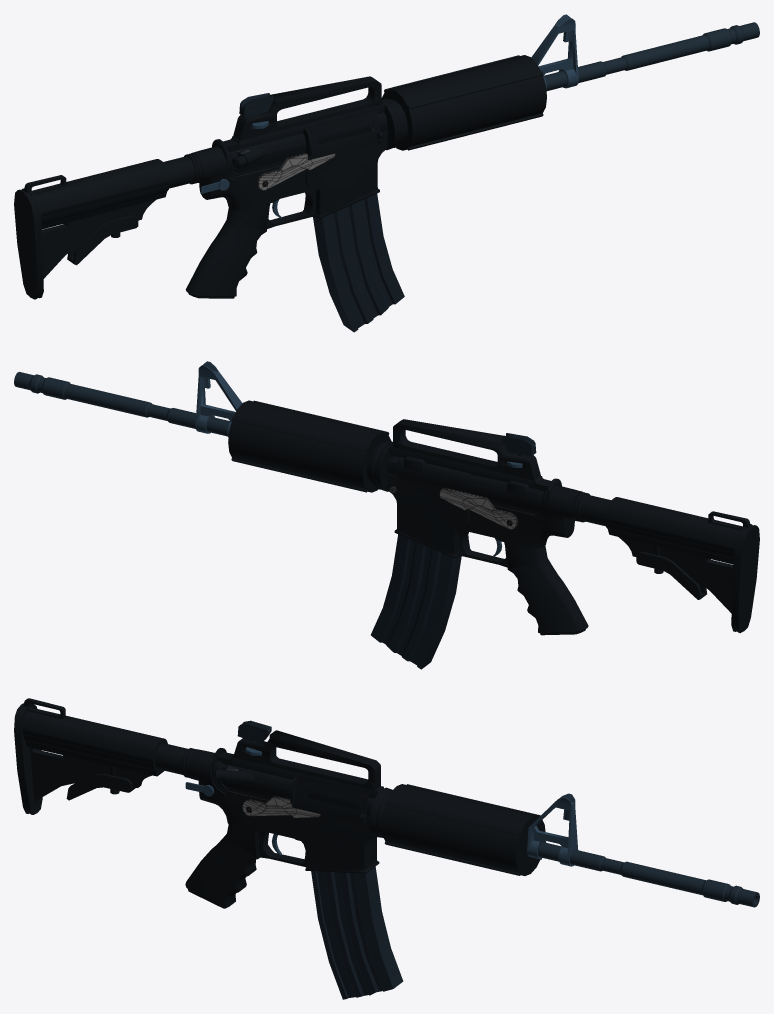
3 views of the same model, one above another, from view 1: azimuth 30°, elevation 25°; view 2: azimuth 150°, elevation 25°; view 3: azimuth 330°, elevation 25° (orthographic).
Parts seen in each view (by area): view 1: M4_Carbine.066, M4_Carbine.063, M4_Carbine.062, M4_Carbine.065, M4_Carbine.048, M4_Carbine.060, M4_Carbine.061, M4_Carbine.042, AK-47.001, M4_Carbine.018; view 2: M4_Carbine.066, M4_Carbine.063, M4_Carbine.062, M4_Carbine.065, M4_Carbine.048, M4_Carbine.060, M4_Carbine.061, AK-47.001, M4_Carbine.042, M4_Carbine.018; view 3: M4_Carbine.066, M4_Carbine.063, M4_Carbine.062, M4_Carbine.065, M4_Carbine.048, M4_Carbine.060, M4_Carbine.061, M4_Carbine.042, AK-47.001, M4_Carbine.018.
Part boxes in pixels (<box>): M4_Carbine.066: <box>184,98,407,298</box>; M4_Carbine.063: <box>14,156,194,299</box>; M4_Carbine.062: <box>381,55,546,150</box>; M4_Carbine.065: <box>313,193,404,332</box>; M4_Carbine.048: <box>223,76,384,151</box>; M4_Carbine.060: <box>543,22,759,90</box>; M4_Carbine.061: <box>531,14,578,90</box>; M4_Carbine.042: <box>212,120,373,162</box>; AK-47.001: <box>257,153,335,190</box>; M4_Carbine.018: <box>239,93,273,116</box>; M4_Carbine.066: <box>367,441,589,635</box>; M4_Carbine.063: <box>580,495,759,633</box>; M4_Carbine.062: <box>228,400,391,492</box>; M4_Carbine.065: <box>371,534,461,669</box>; M4_Carbine.048: <box>390,419,551,491</box>; M4_Carbine.060: <box>14,372,230,436</box>; M4_Carbine.061: <box>195,361,242,437</box>; AK-47.001: <box>439,487,517,529</box>; M4_Carbine.042: <box>468,474,561,501</box>; M4_Carbine.018: <box>502,433,536,456</box>; M4_Carbine.066: <box>181,748,392,908</box>; M4_Carbine.063: <box>14,698,187,814</box>; M4_Carbine.062: <box>381,784,545,875</box>; M4_Carbine.065: <box>311,866,403,999</box>; M4_Carbine.048: <box>217,730,383,798</box>; M4_Carbine.060: <box>538,842,759,907</box>; M4_Carbine.061: <box>527,793,578,866</box>; M4_Carbine.042: <box>212,748,362,808</box>; AK-47.001: <box>242,796,321,818</box>; M4_Carbine.018: <box>237,720,271,742</box>.
Bounding box in the file's own units: 5717 × 1888 × 441.
